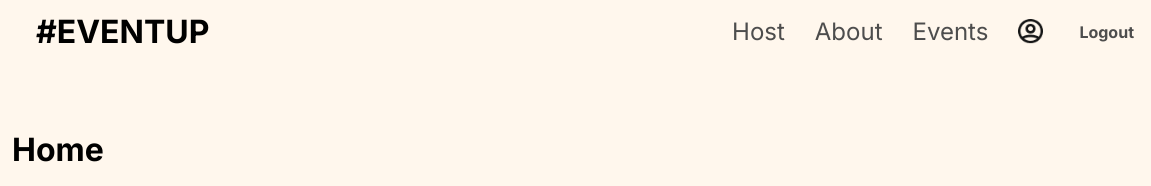
Test case: Navbar Navigation Component › O ícone de Login/Avatar leva o usuário para /host se ele JÁ ESTIVER logado
Step 1. Click the 5th link → click(1031, 32), box x1=1018 y1=19 x2=1043 y2=44
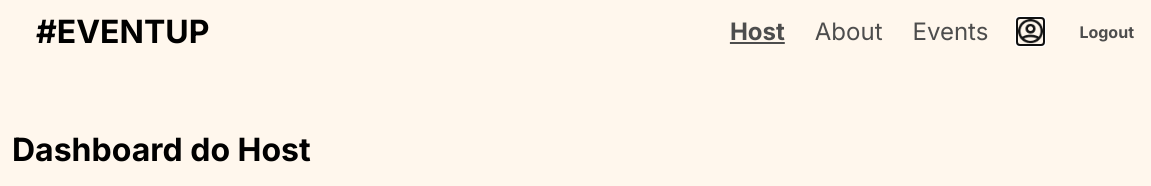
Expected: the heading "Dashboard do Host" is shown, x1=12 y1=130 x2=311 y2=169
